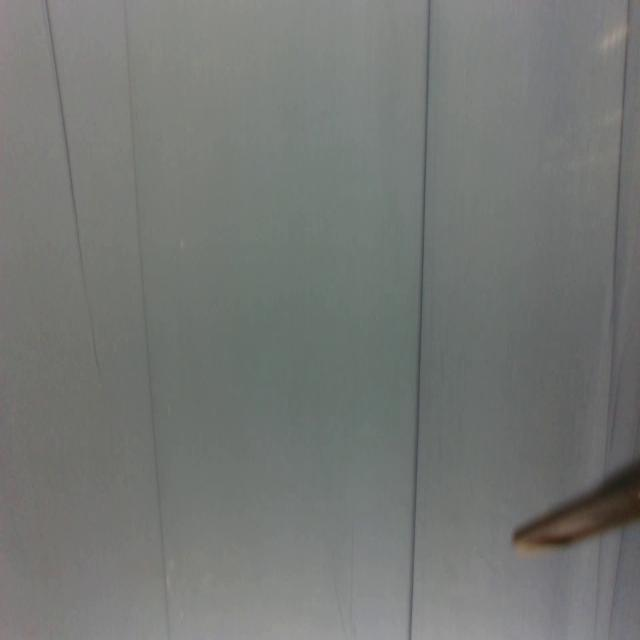crease: (122, 0, 170, 640), (43, 0, 101, 372), (410, 0, 430, 639), (604, 0, 630, 462), (606, 530, 624, 640), (592, 536, 604, 640)
